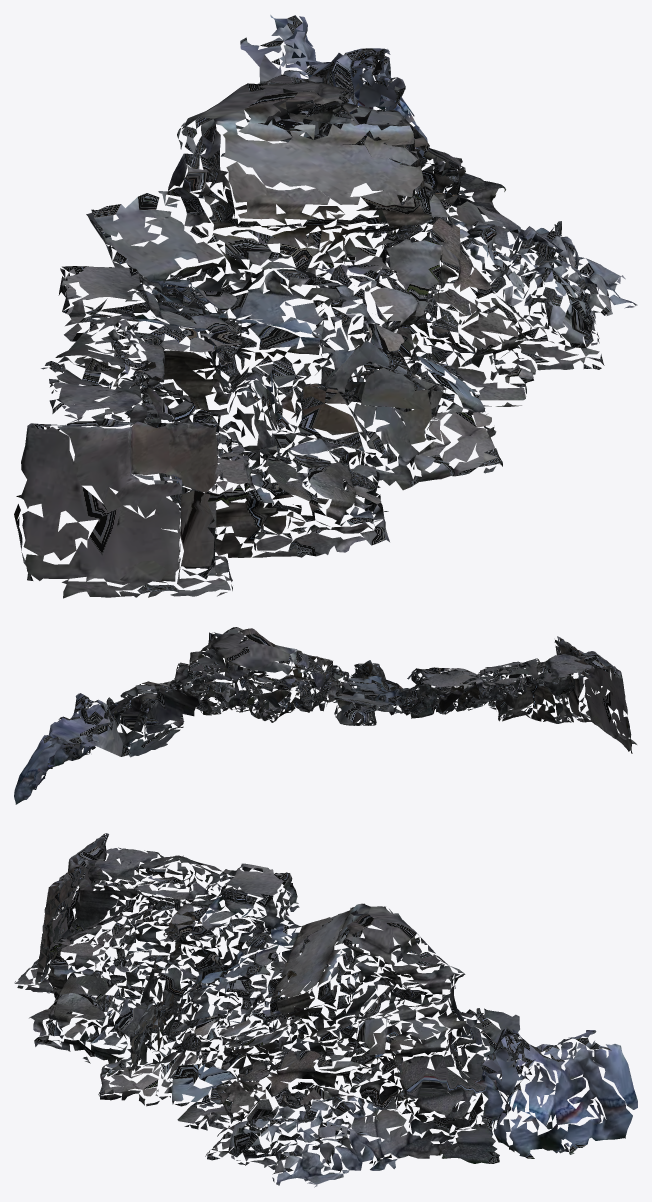
Rendered from rubble-pile.gltf.
3 views of the same model, one above another, from view 1: azimuth 30°, elevation 25°; view 2: azimuth 150°, elevation 25°; view 3: azimuth 270°, elevation 25° (orthographic). The views are drawn at different scales.
Visible parts, largest first — view 1: Sketchfab_model; view 2: Sketchfab_model; view 3: Sketchfab_model.
Part boxes in pixels (left/top/right/bottom): Sketchfab_model: left=14, top=15, right=637, bottom=598; Sketchfab_model: left=14, top=627, right=636, bottom=804; Sketchfab_model: left=14, top=833, right=637, bottom=1187.
Bounding box in the file's own units: 2.83 × 0.9 × 2.88.
5 materials, 5 textured.
